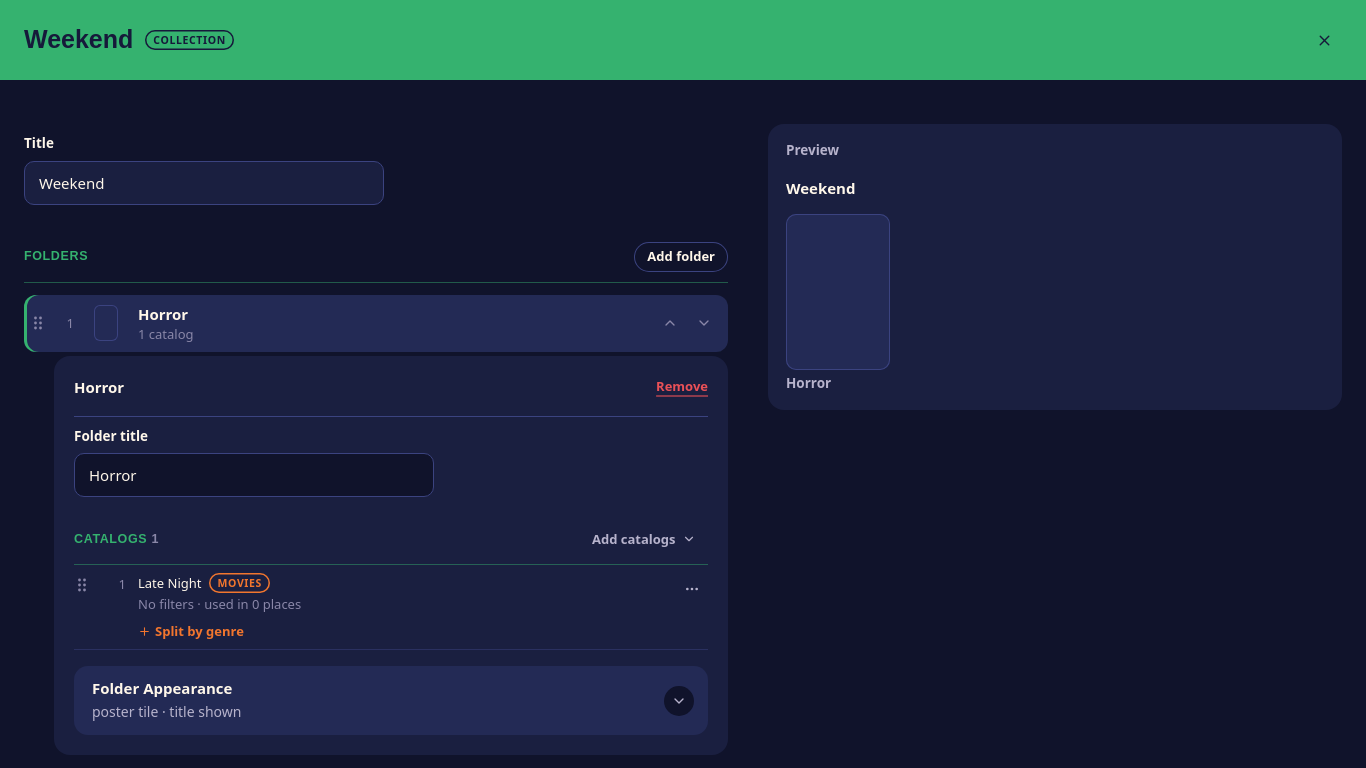
Test: CollectionEditor › the Add catalogs dropdown › says so when the library is empty or a search matches nothing
Click the button "Add catalogs": (644, 539) [580,524,708,554]
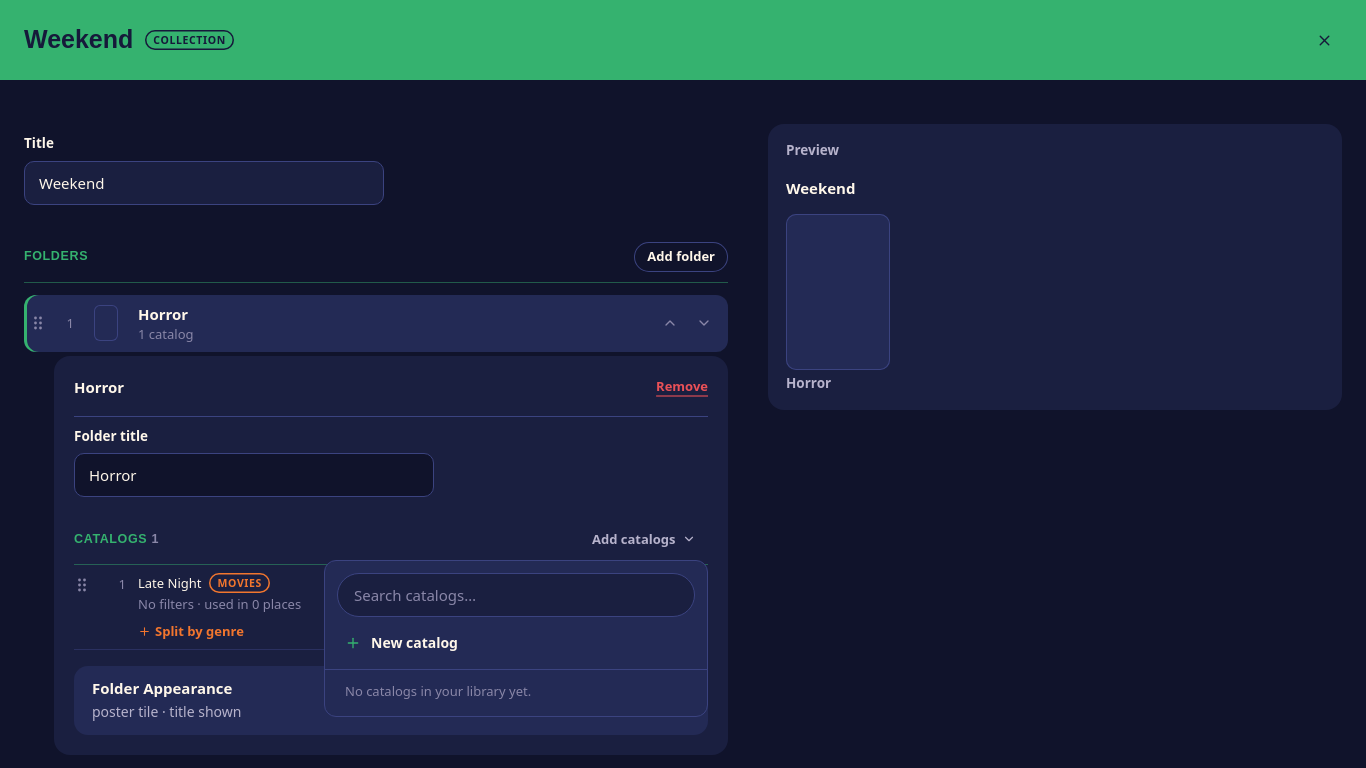
expect the text "No catalogs in your library yet." is shown: met, box [345,682,531,700]
